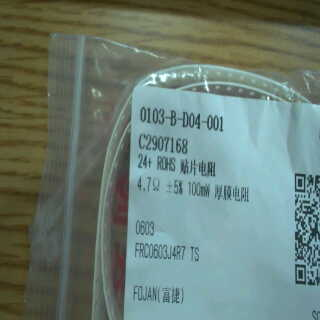4.7R: (135, 174, 162, 195)
